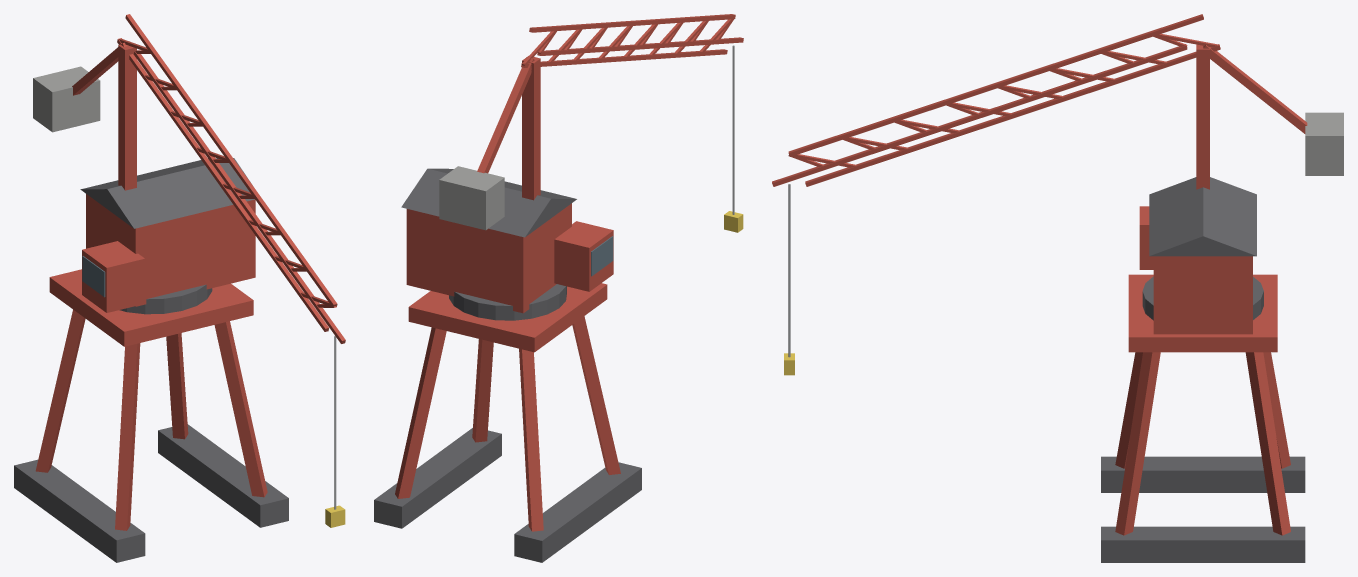
File: QuayCraneRed.glb
3 renders of one model, left to right at view 1: azimuth 30°, elevation 25°; view 2: azimuth 150°, elevation 25°; view 3: azimuth 270°, elevation 25°, orthographic. The views are drawn at different scales.
Parts seen in each view (by area): view 1: Machine house, Machine house roof, Portal deck, Bogie, Bogie.001, Counterweight, Cab, Beam.002, Beam, Beam.004, Beam.001, Beam.007 (+7 smaller); view 2: Machine house, Portal deck, Bogie, Bogie.001, Machine house roof, Counterweight, Cab, Beam.003, Beam.001, Beam.004, Beam, Slewing ring (+7 smaller); view 3: Machine house, Machine house roof, Bogie.001, Bogie, Portal deck, Beam.002, Beam.003, Beam.007, Beam.005, Beam.006, Counterweight, Beam.004 (+5 smaller).
Part boxes in pixels (box(x1,y1,x2,y2)): Machine house: box(86, 194, 255, 306); Machine house roof: box(80, 158, 254, 228); Portal deck: box(49, 269, 253, 346); Bogie: box(14, 459, 145, 562); Bogie.001: box(158, 424, 288, 527); Counterweight: box(33, 66, 100, 132); Cab: box(82, 241, 144, 312); Beam.002: box(214, 321, 267, 497); Beam: box(115, 343, 140, 530); Beam.004: box(118, 44, 136, 190); Beam.001: box(35, 309, 85, 472); Beam.007: box(125, 14, 337, 307); Machine house: box(406, 203, 571, 313); Portal deck: box(408, 283, 607, 352); Bogie: box(514, 462, 641, 562); Bogie.001: box(374, 428, 501, 528); Machine house roof: box(401, 168, 576, 237); Counterweight: box(439, 166, 504, 230); Cab: box(554, 221, 613, 291); Beam.003: box(395, 327, 446, 498); Beam.001: box(519, 348, 543, 531); Beam.004: box(522, 56, 540, 200); Beam: box(572, 316, 620, 474); Slewing ring: box(449, 284, 566, 320); Machine house: box(1153, 256, 1252, 334); Machine house roof: box(1149, 177, 1256, 256); Bogie.001: box(1101, 526, 1305, 562); Bogie: box(1101, 456, 1305, 492); Portal deck: box(1128, 274, 1277, 352); Beam.002: box(1115, 352, 1160, 535); Beam.003: box(1245, 352, 1290, 535); Beam.007: box(788, 14, 1203, 156); Beam.005: box(772, 44, 1187, 186); Beam.006: box(805, 44, 1220, 186); Counterweight: box(1305, 112, 1343, 175); Beam.004: box(1196, 44, 1209, 189).
Bounding box in the file's own units: 7.2 × 19.82 × 20.73.
